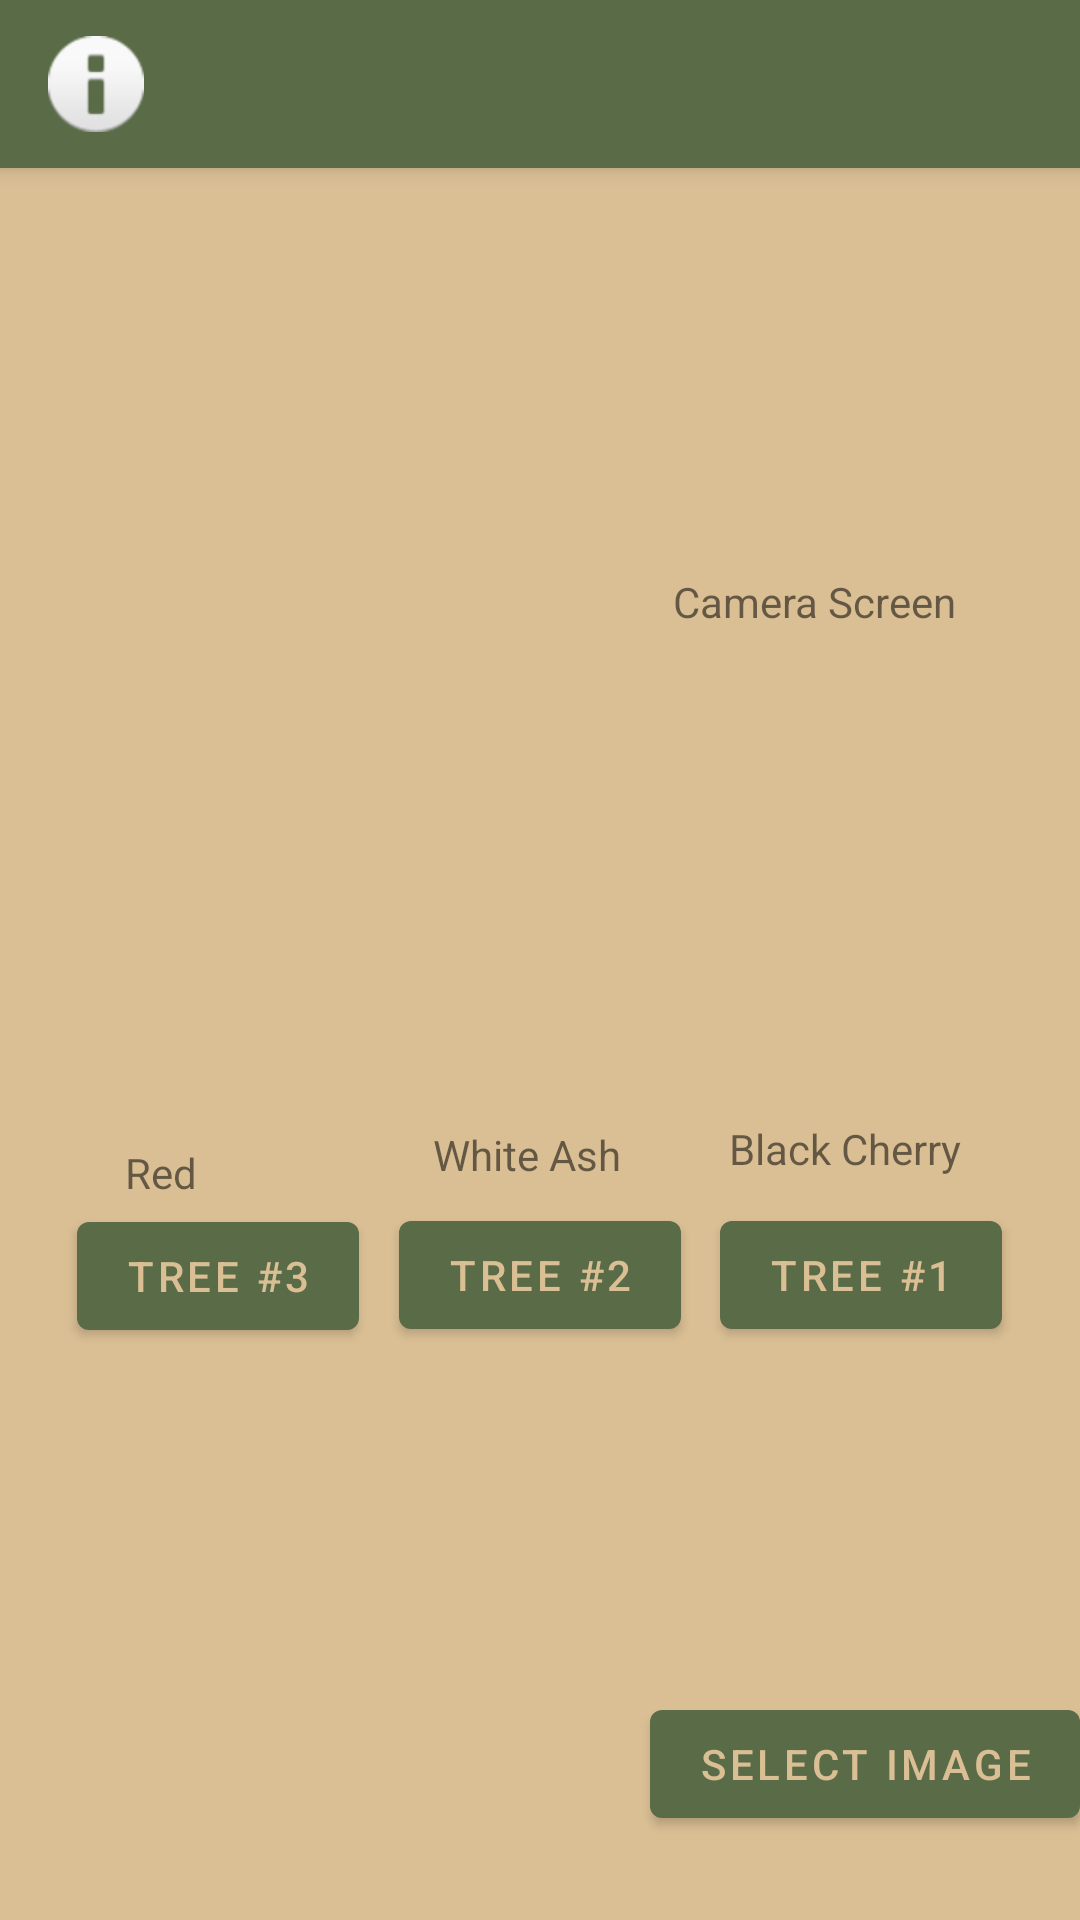

Screen size 1080 x 1920. Icon name, then its box in pixels as bbox=[x1, y1, x2, y2]:
info: bbox=[48, 36, 144, 132]
